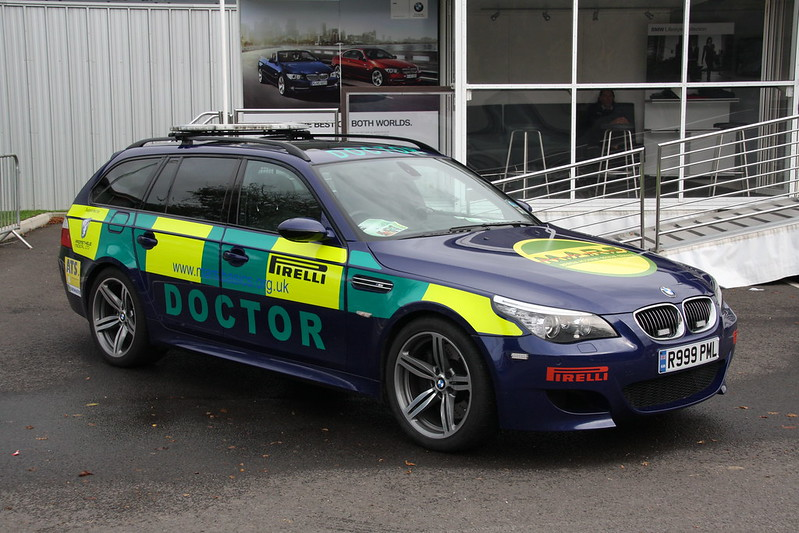number_plate: (643, 339, 736, 372)
